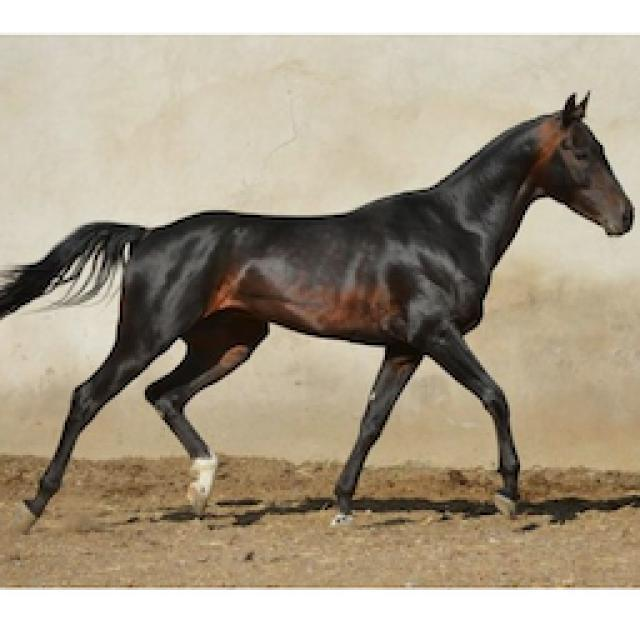Horse: (0, 85, 638, 535)
